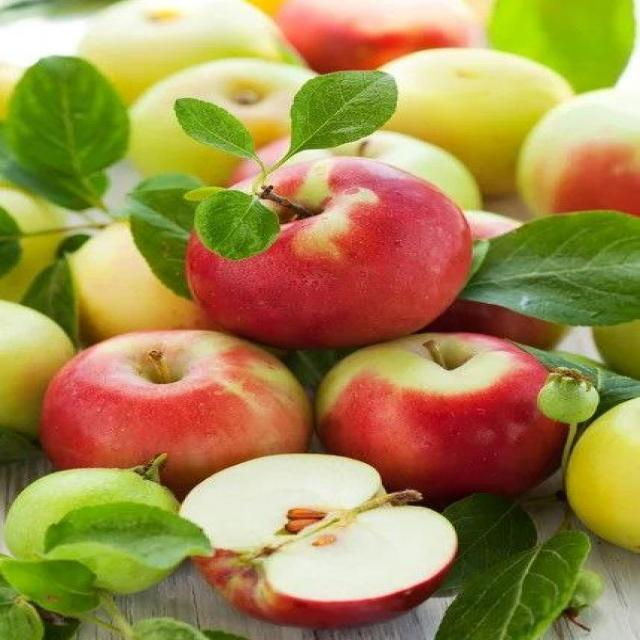Fresh Apple: (187, 162, 468, 346), (330, 345, 600, 503), (35, 342, 297, 478)
